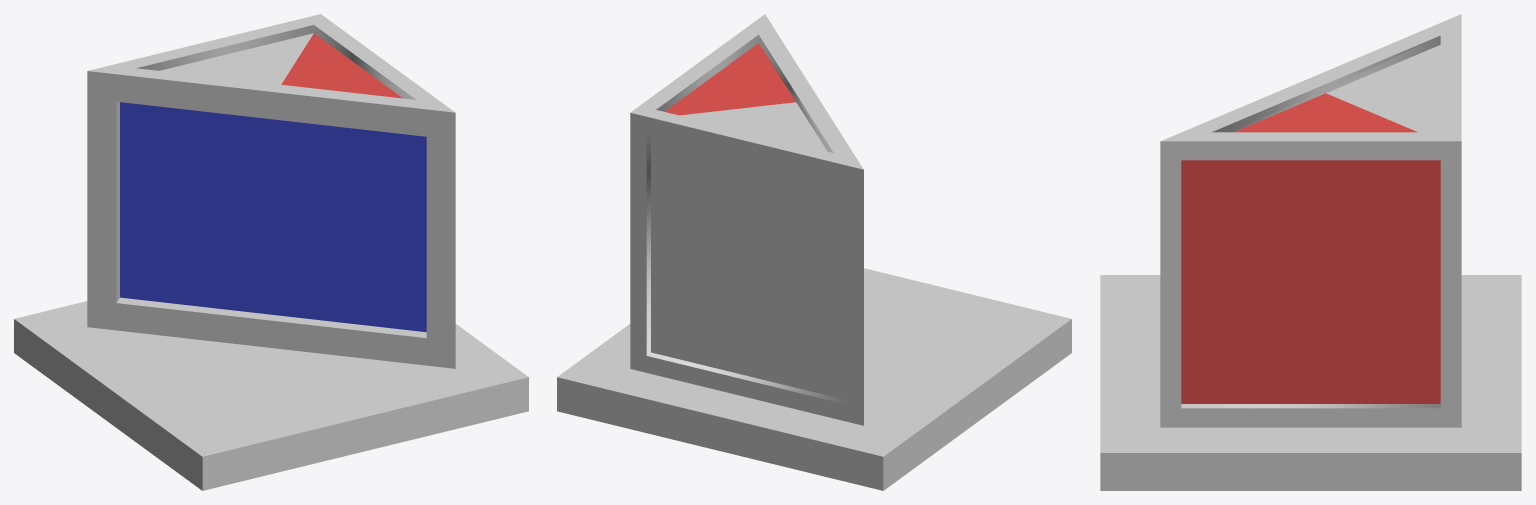
Rendered from MirroeUp.fbx.
3 renders of one model, left to right at view 1: azimuth 30°, elevation 25°; view 2: azimuth 150°, elevation 25°; view 3: azimuth 270°, elevation 25°, orthographic. The views are drawn at different scales.
Visible parts, largest first — view 1: Mirror; view 2: Mirror; view 3: Mirror.
Boxes of the visible parts, x1,y1,x2,y2 form: Mirror: (14, 14, 528, 490); Mirror: (557, 14, 1071, 490); Mirror: (1100, 14, 1521, 490).
Size of what is drawn, in the model's own units: 200 by 170 by 200.
